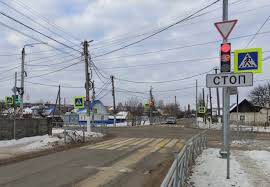tl: (219, 43, 232, 73)
